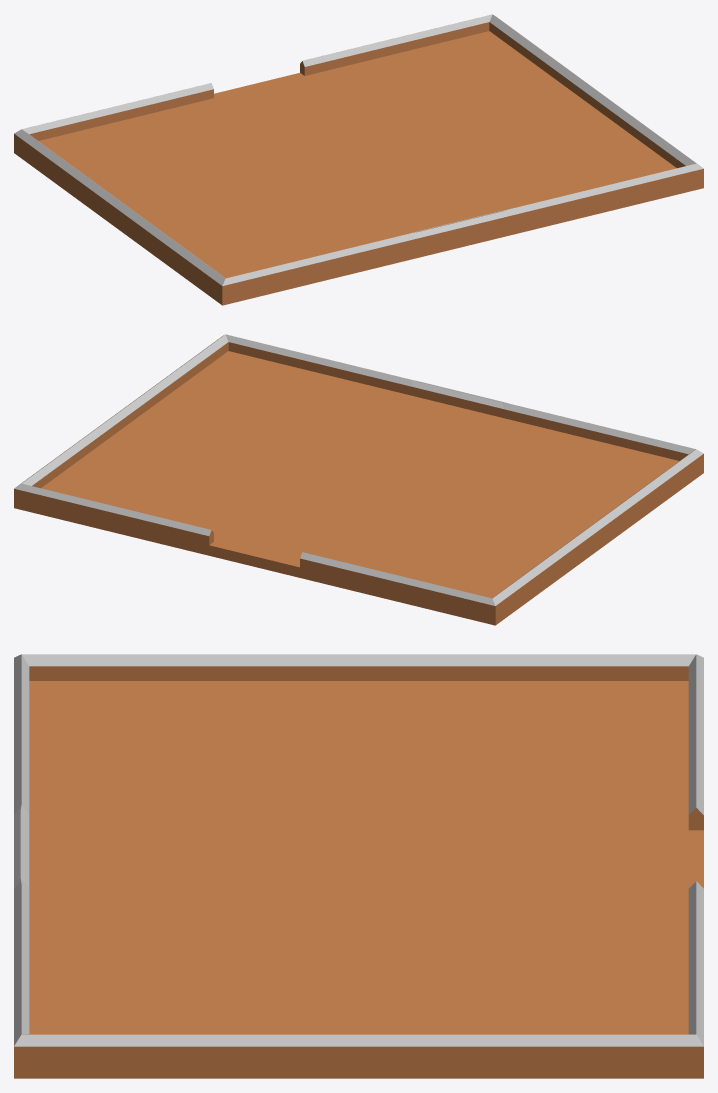
The model's file is basketball platform2.fbx.
The picture shows the model from 3 angles, top to bottom: view 1: azimuth 30°, elevation 25°; view 2: azimuth 150°, elevation 25°; view 3: azimuth 270°, elevation 25°; orthographic projection. The views are drawn at different scales.
Parts seen in each view (by area): view 1: Plane; view 2: Plane; view 3: Plane.
Boxes of the visible parts, bbox=[...] form: Plane: bbox=[14, 14, 703, 305]; Plane: bbox=[14, 334, 703, 625]; Plane: bbox=[14, 654, 703, 1078].
Size of the model in its own units: 1000 by 48.01 by 750.
